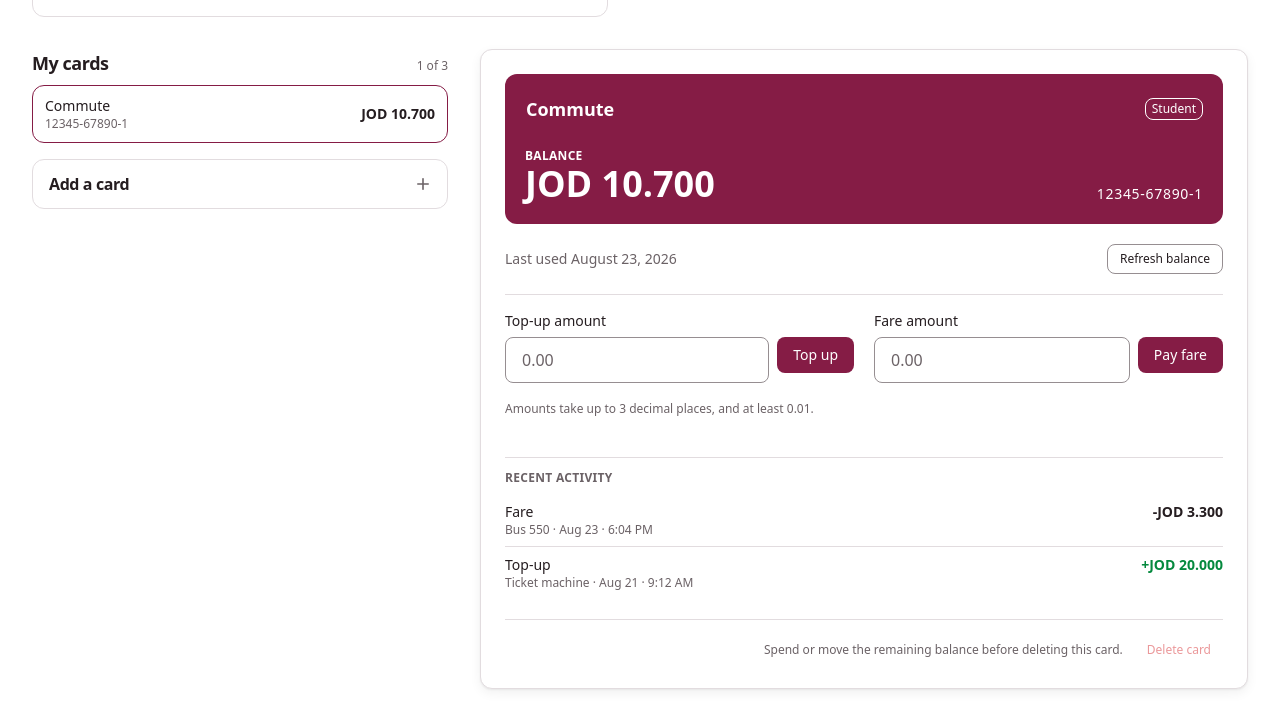
the money › refuses an impossible amount without asking the server
(page scrolled)
Type "0" into the field labelled "Fare amount".
click(1002, 360); type("0")  # box [874,337,1130,383]
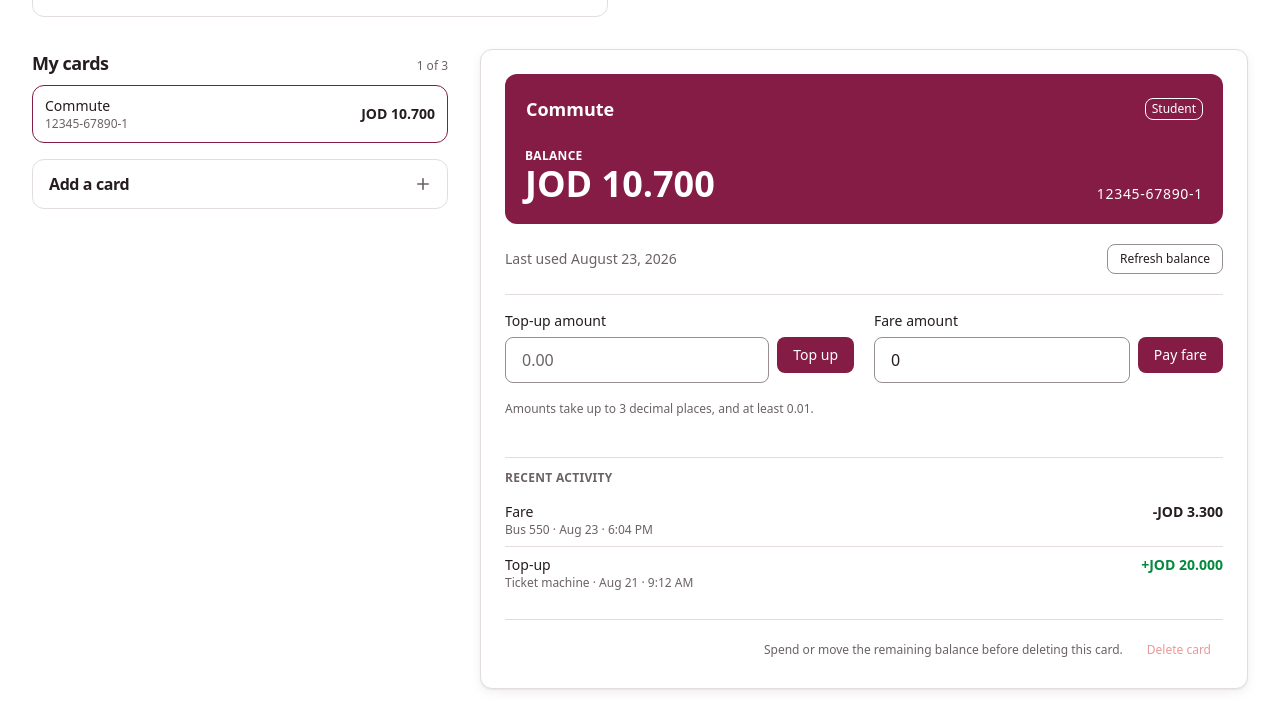
Click the button "Pay fare".
click(1180, 355)  # box [1138,337,1223,373]
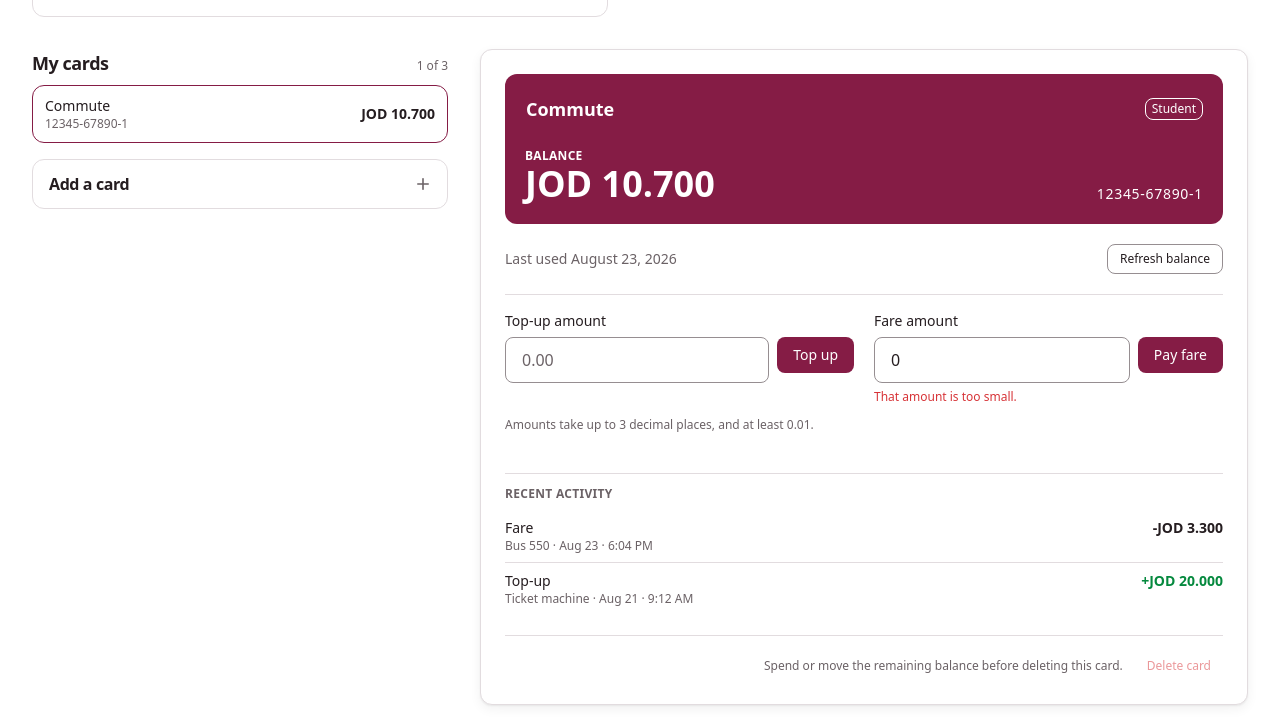
Expected: the text "That amount is too small." is shown, [874,388,1017,405]
